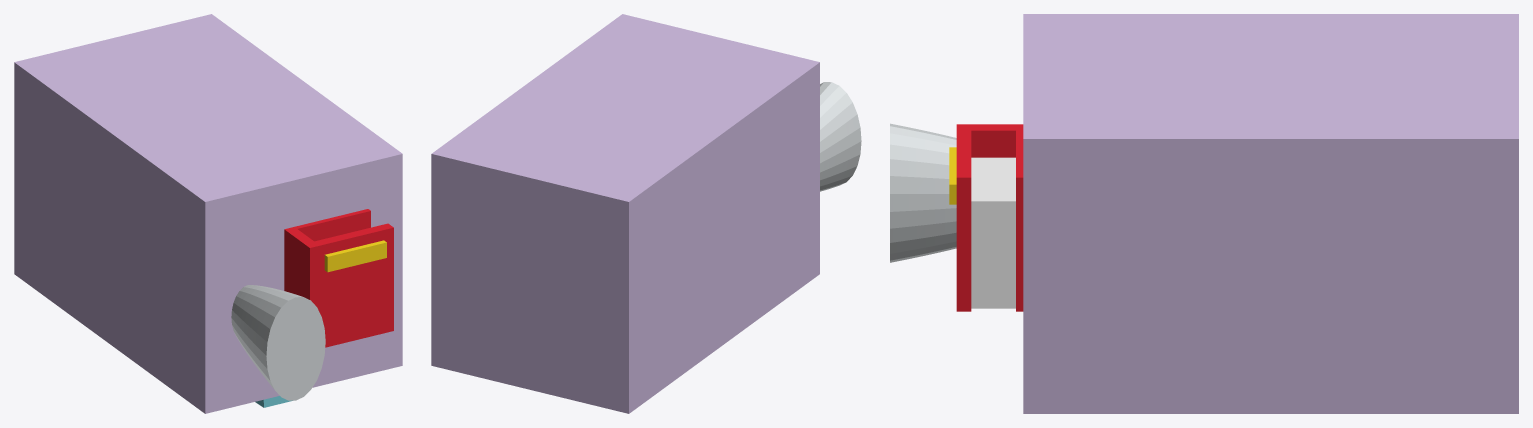
The model's file is tinker.obj.
The picture shows the model from 3 angles, left to right: view 1: azimuth 30°, elevation 25°; view 2: azimuth 150°, elevation 25°; view 3: azimuth 270°, elevation 25°; orthographic projection. The views are drawn at different scales.
Visible parts, largest first — view 1: group_0_13877221, group_0_15277357, group_0_14541540, group_0_16768282; view 2: group_0_13877221, group_0_14541540; view 3: group_0_13877221, group_0_14541540, group_0_16448250, group_0_15277357.
Boxes of the visible parts, box(x1,y1,x2,y2) form: group_0_13877221: box(14, 14, 402, 413); group_0_15277357: box(284, 209, 393, 347); group_0_14541540: box(231, 285, 325, 400); group_0_16768282: box(324, 240, 386, 272); group_0_13877221: box(431, 14, 819, 413); group_0_14541540: box(820, 82, 861, 191); group_0_13877221: box(1023, 14, 1518, 413); group_0_14541540: box(890, 123, 956, 262); group_0_16448250: box(971, 157, 1015, 308); group_0_15277357: box(956, 124, 1023, 311).
Bounding box in the file's own units: 40 × 47.62 × 85.
